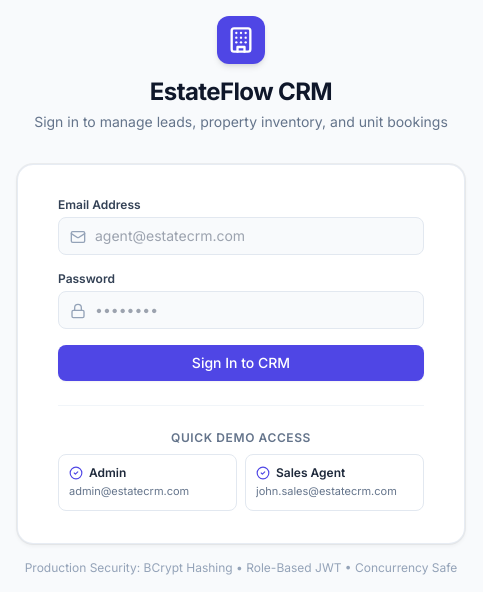
Test: LoginPage Component › populates fields when demo admin button is clicked
Click the text "Admin" at (98, 473), box [69,465,126,480]
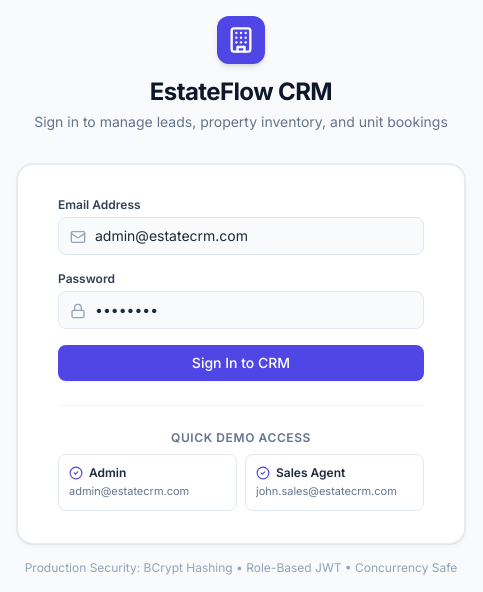
Now the field with placeholder "agent@estatecrm.com" holds "admin@estatecrm.com", box [58,217,424,255]
